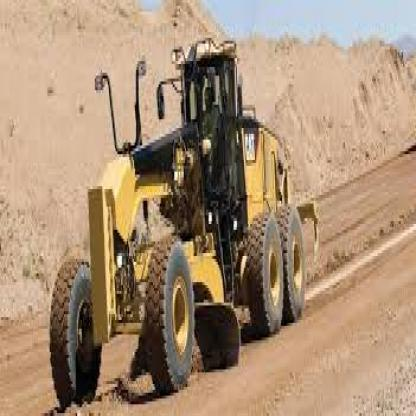bull_dozer/loader/grader: (38, 38, 345, 413)
